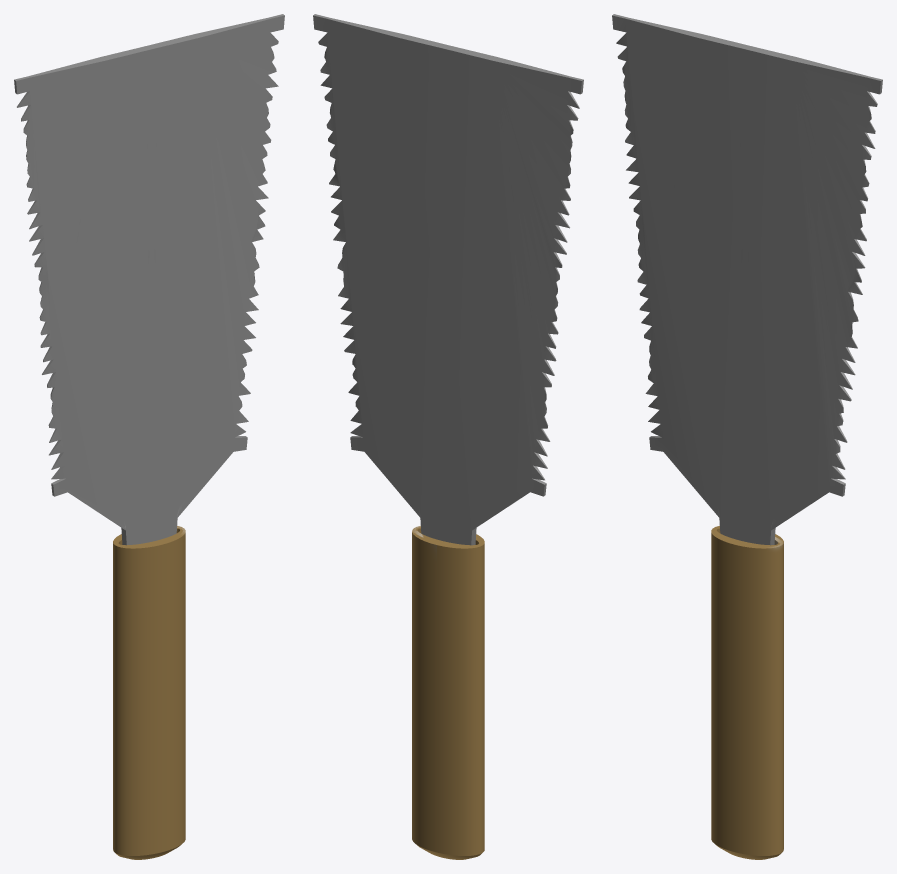
File: saw2.fbx
The picture shows the model from 3 angles, left to right: view 1: azimuth 30°, elevation 25°; view 2: azimuth 150°, elevation 25°; view 3: azimuth 330°, elevation 25°; orthographic projection.
Visible parts, largest first — view 1: Plane; view 2: Plane; view 3: Plane.
Boxes of the visible parts, <box> form: Plane: <box>14,14,284,859</box>; Plane: <box>313,14,583,859</box>; Plane: <box>612,14,882,859</box>.
Bounding box in the file's own units: 103 × 297 × 15.24.
